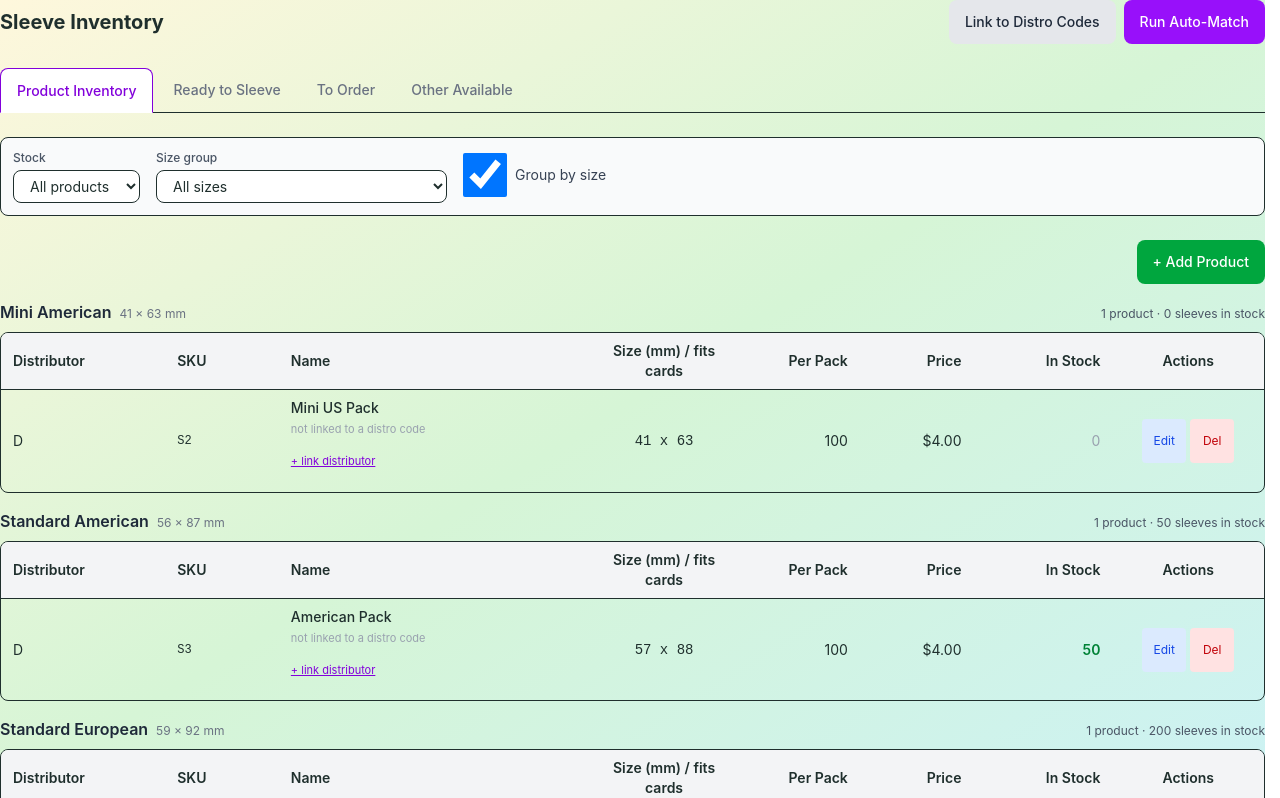
Scenario: SleeveInventoryTab › stock filter and size groups › group by size can be switched off for a flat table
The image size is (1280, 798).
Click the checkbox labelled "Group by size". click: point(485, 175)
box: [463,153,507,197]
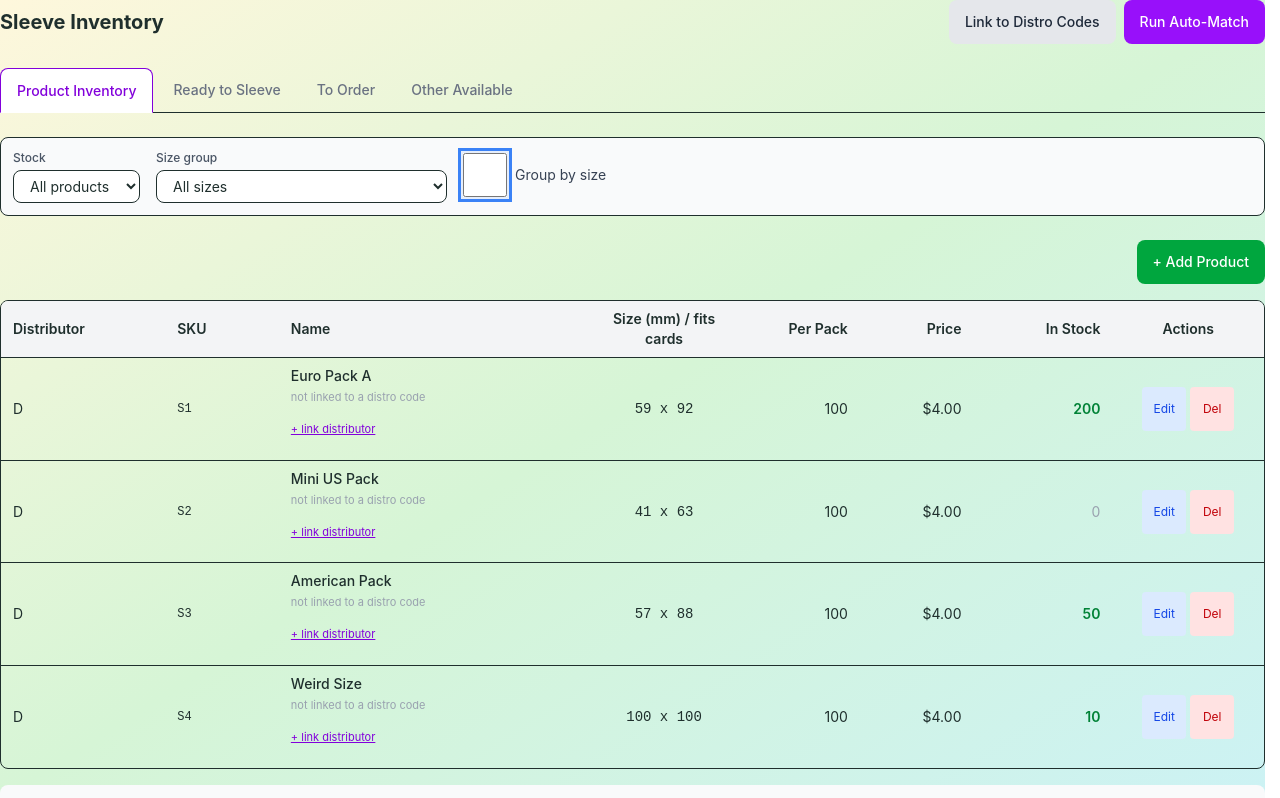
Expected: the number of rows is 5, [1,301,1264,358]; [1,358,1264,460]; [1,460,1264,563]; [1,563,1264,666]; [1,666,1264,768]
